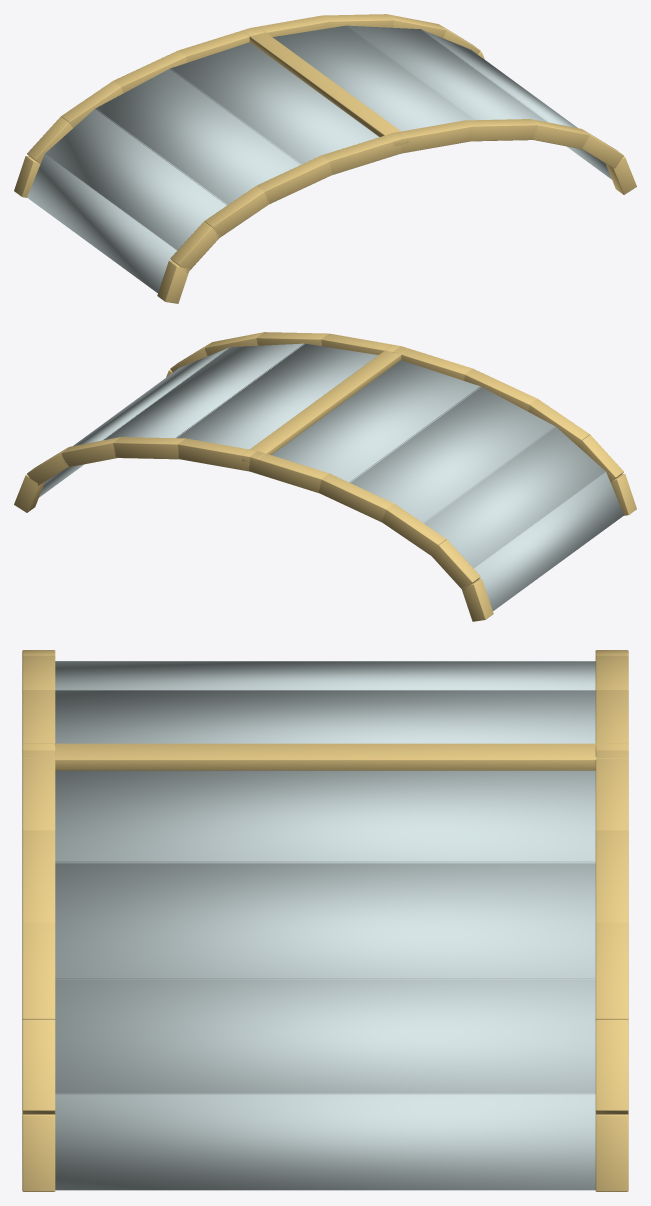
Rendered from volta.glb.
The picture shows the model from 3 angles, top to bottom: view 1: azimuth 30°, elevation 25°; view 2: azimuth 150°, elevation 25°; view 3: azimuth 270°, elevation 25°; orthographic projection. The views are drawn at different scales.
Parts seen in each view (by area): view 1: volta_vetro_2, volta_vetro_3, volta_vetro_1, volta_vetro_4, volta_vetro_0, volta_vetro_5, colmo, volta_vetro_6, arco_costolone_-1_4, arco_costolone_-1_3, arco_costolone_-1_5, arco_costolone_-1_2 (+14 smaller); view 2: volta_vetro_2, volta_vetro_3, volta_vetro_1, volta_vetro_4, volta_vetro_0, volta_vetro_5, colmo, volta_vetro_6, arco_costolone_1_4, arco_costolone_1_3, arco_costolone_1_5, arco_costolone_1_2 (+14 smaller); view 3: volta_vetro_5, volta_vetro_6, volta_vetro_7, volta_vetro_4, volta_vetro_3, volta_vetro_2, colmo, arco_costolone_-1_7, arco_costolone_1_7, arco_costolone_-1_8, arco_costolone_1_8, arco_costolone_-1_6 (+9 smaller).
Part boxes in pixels (left/top/right/bottom): volta_vetro_2: left=95, top=68, right=301, bottom=205; volta_vetro_3: left=169, top=42, right=378, bottom=164; volta_vetro_1: left=45, top=108, right=227, bottom=250; volta_vetro_4: left=272, top=25, right=474, bottom=131; volta_vetro_0: left=27, top=154, right=177, bottom=292; volta_vetro_5: left=346, top=25, right=548, bottom=122; colmo: left=242, top=27, right=408, bottom=145; volta_vetro_6: left=420, top=29, right=577, bottom=127; arco_costolone_-1_4: left=322, top=133, right=401, bottom=175; arco_costolone_-1_3: left=257, top=155, right=332, bottom=204; arco_costolone_-1_5: left=394, top=120, right=472, bottom=153; arco_costolone_-1_2: left=204, top=186, right=269, bottom=237; volta_vetro_2: left=349, top=386, right=555, bottom=523; volta_vetro_3: left=272, top=360, right=481, bottom=482; volta_vetro_1: left=423, top=426, right=605, bottom=568; volta_vetro_4: left=176, top=343, right=378, bottom=449; volta_vetro_0: left=473, top=472, right=623, bottom=610; volta_vetro_5: left=102, top=343, right=304, bottom=440; colmo: left=242, top=345, right=408, bottom=464; volta_vetro_6: left=73, top=347, right=230, bottom=445; arco_costolone_1_4: left=249, top=451, right=328, bottom=493; arco_costolone_1_3: left=318, top=473, right=393, bottom=522; arco_costolone_1_5: left=178, top=438, right=256, bottom=471; arco_costolone_1_2: left=381, top=504, right=446, bottom=556; volta_vetro_5: left=55, top=861, right=595, bottom=979; volta_vetro_6: left=55, top=978, right=595, bottom=1094; volta_vetro_7: left=55, top=1093, right=595, bottom=1190; volta_vetro_4: left=55, top=770, right=595, bottom=863; volta_vetro_3: left=55, top=690, right=595, bottom=743; volta_vetro_2: left=55, top=661, right=595, bottom=690; colmo: left=22, top=743, right=628, bottom=770; arco_costolone_-1_7: left=22, top=922, right=55, bottom=1020; arco_costolone_1_7: left=595, top=922, right=628, bottom=1020; arco_costolone_-1_8: left=22, top=1019, right=55, bottom=1114; arco_costolone_1_8: left=595, top=1019, right=628, bottom=1114; arco_costolone_-1_6: left=22, top=830, right=55, bottom=922.
Bounding box in the file's own units: 9.89 × 2.22 × 5.5.
